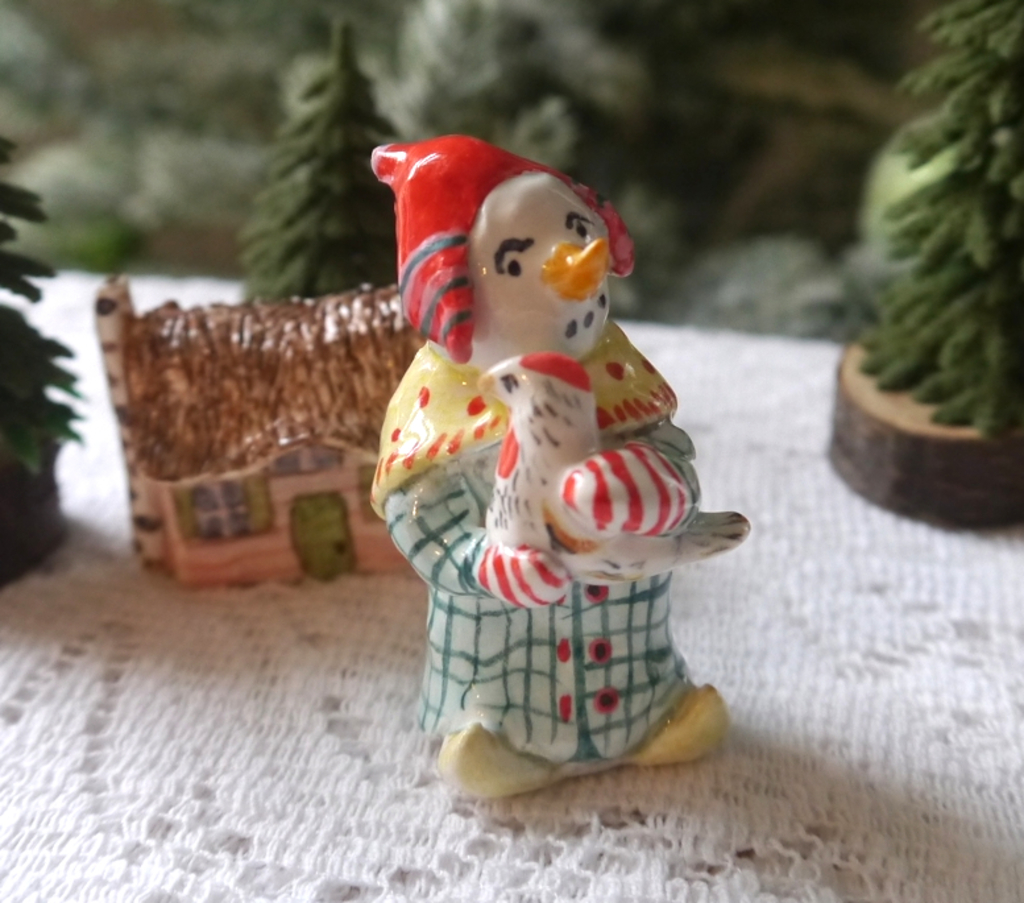Tree: (826, 0, 1023, 530), (230, 25, 405, 290), (0, 131, 83, 586)
